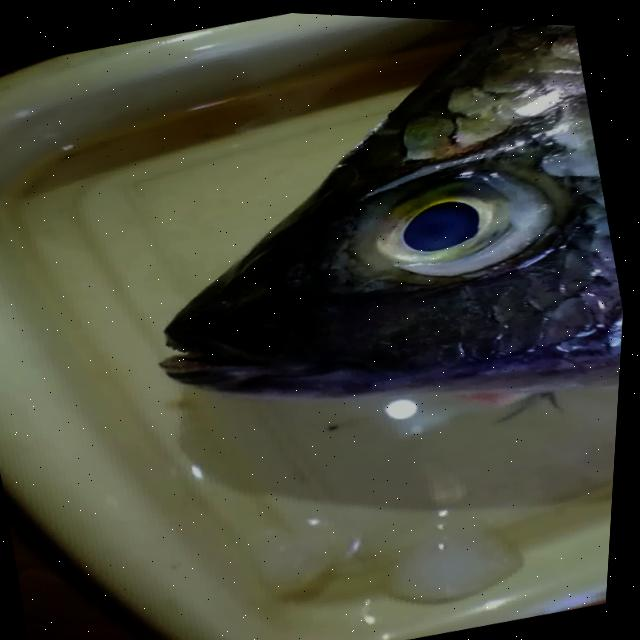Fresh: (328, 135, 594, 344)
